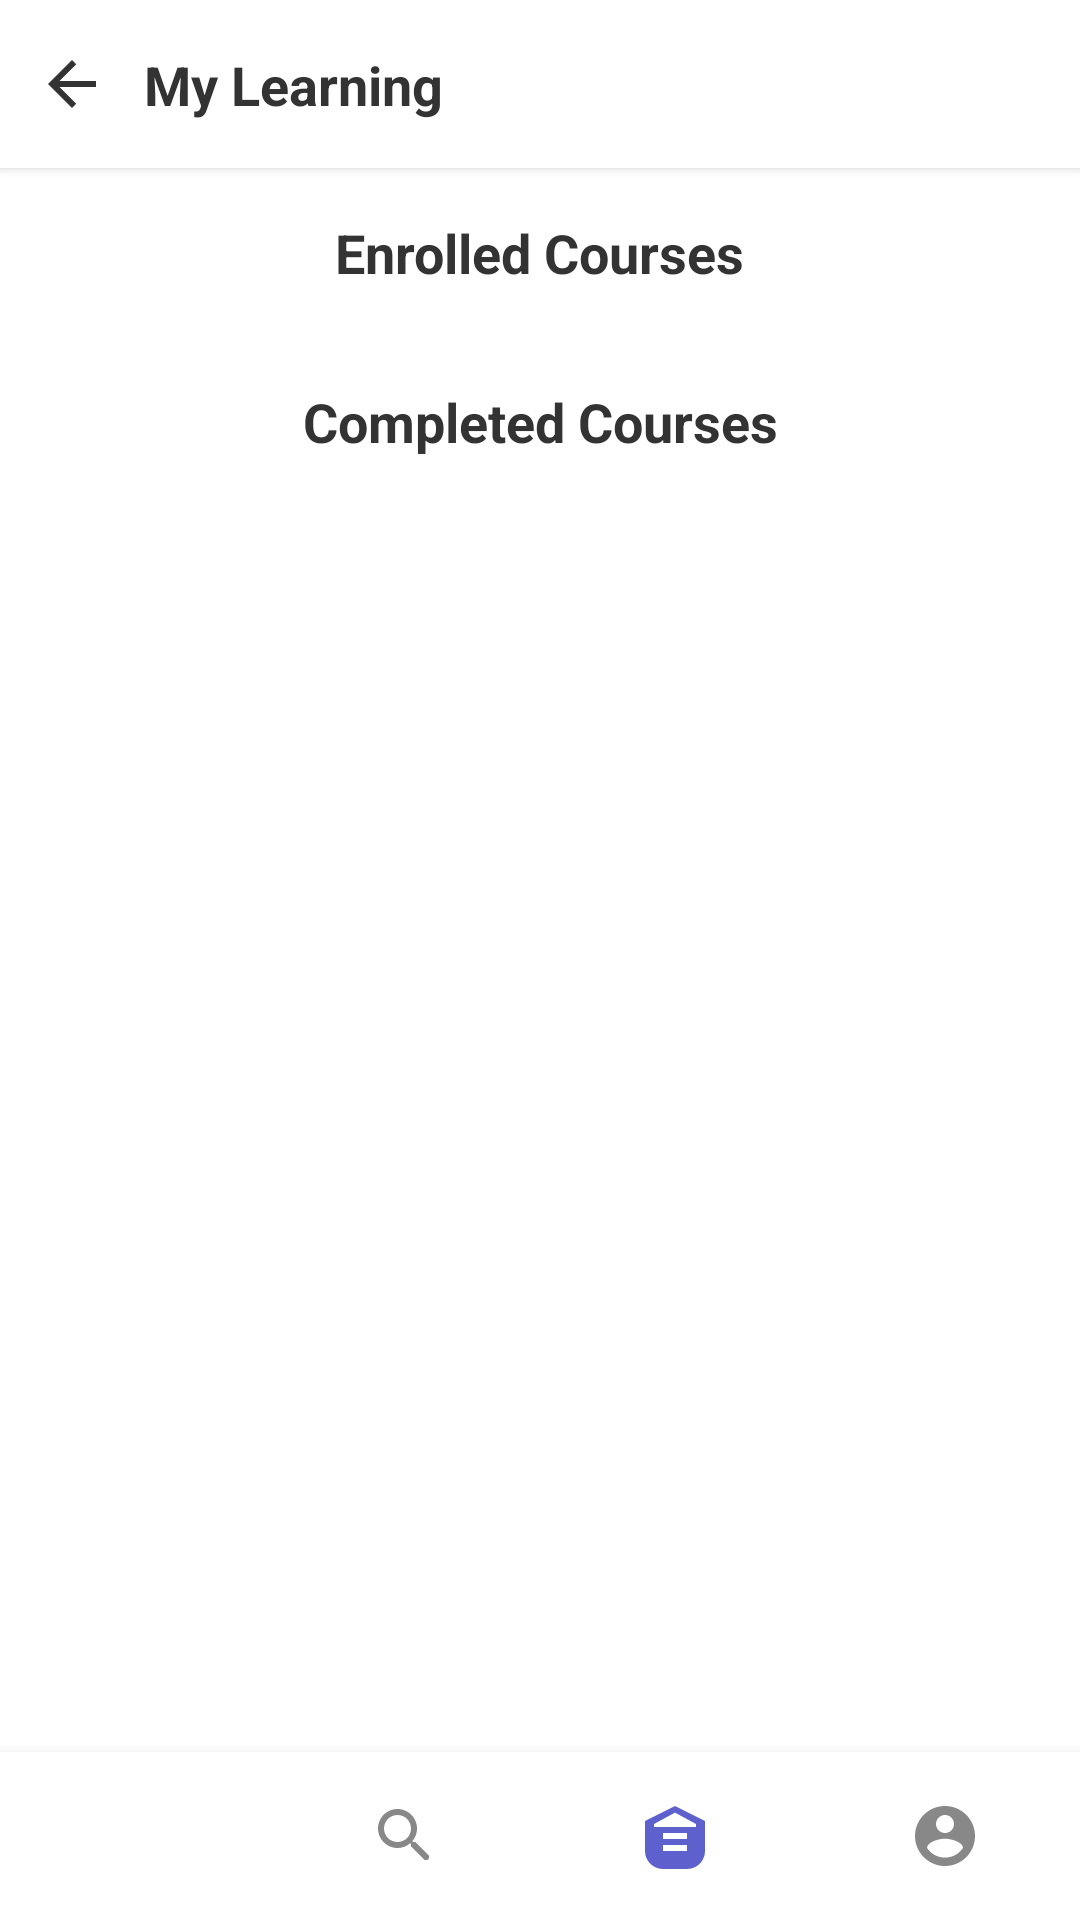

Named icons in this screenshot (1080 × 1920) and their bounding boxes, (x1, y1, x2, y2):
Back: (48, 60, 96, 108)
My Courses: (645, 1806, 705, 1869)
Profile: (915, 1806, 975, 1866)
Search: (378, 1809, 429, 1860)
